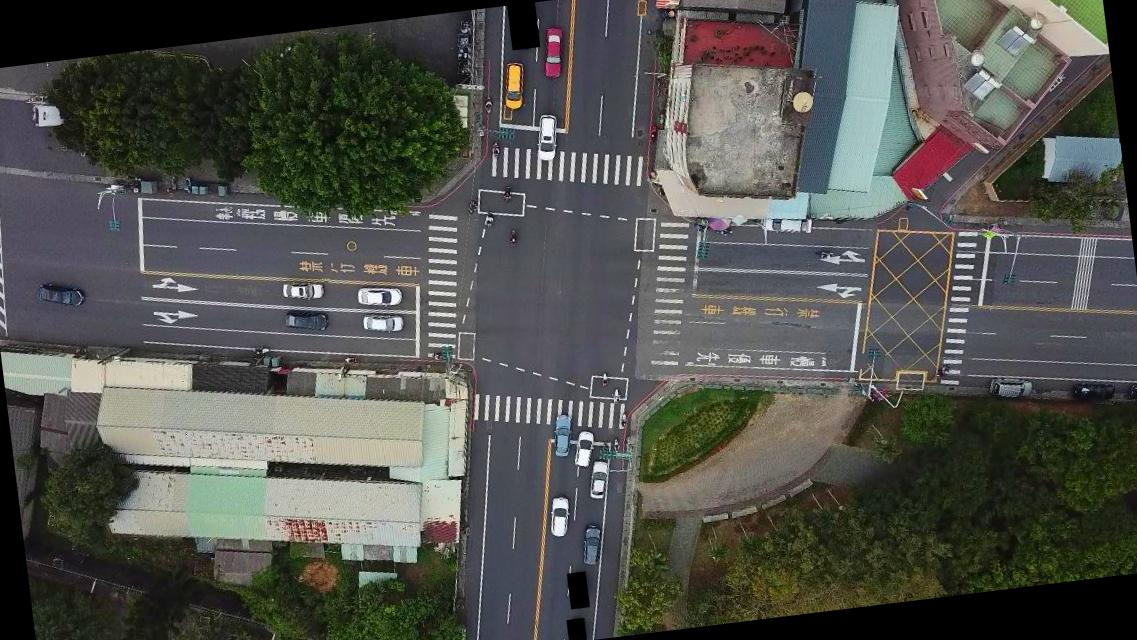vehicle: (759, 210, 815, 240), (36, 278, 84, 310), (532, 112, 562, 162), (538, 25, 566, 78), (500, 60, 529, 109), (987, 373, 1035, 402), (354, 282, 403, 310), (282, 306, 328, 334), (578, 522, 606, 566), (280, 278, 326, 304), (1072, 378, 1116, 405), (570, 428, 598, 468), (550, 412, 574, 458), (362, 310, 404, 335), (586, 460, 612, 500), (546, 496, 572, 536), (1126, 381, 1136, 406)
